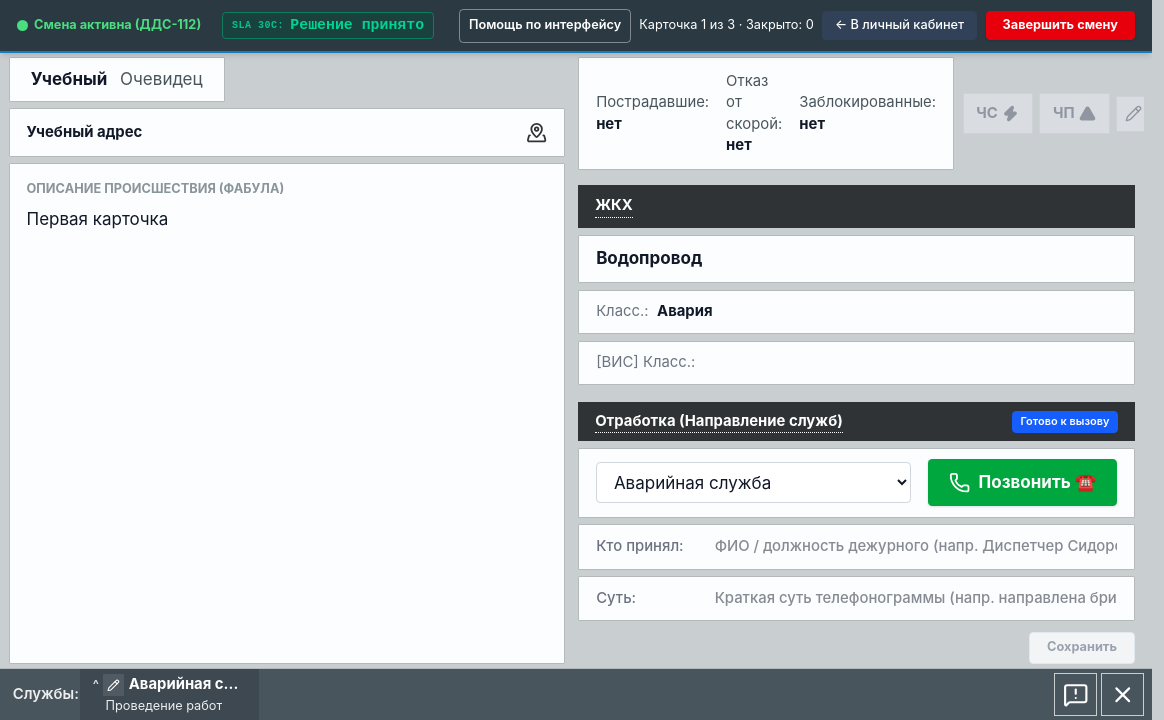
Test: retries an uncertain completion with the same card and request key
Click the button named "Отработана": click(1076, 695) [1054,673,1097,716]
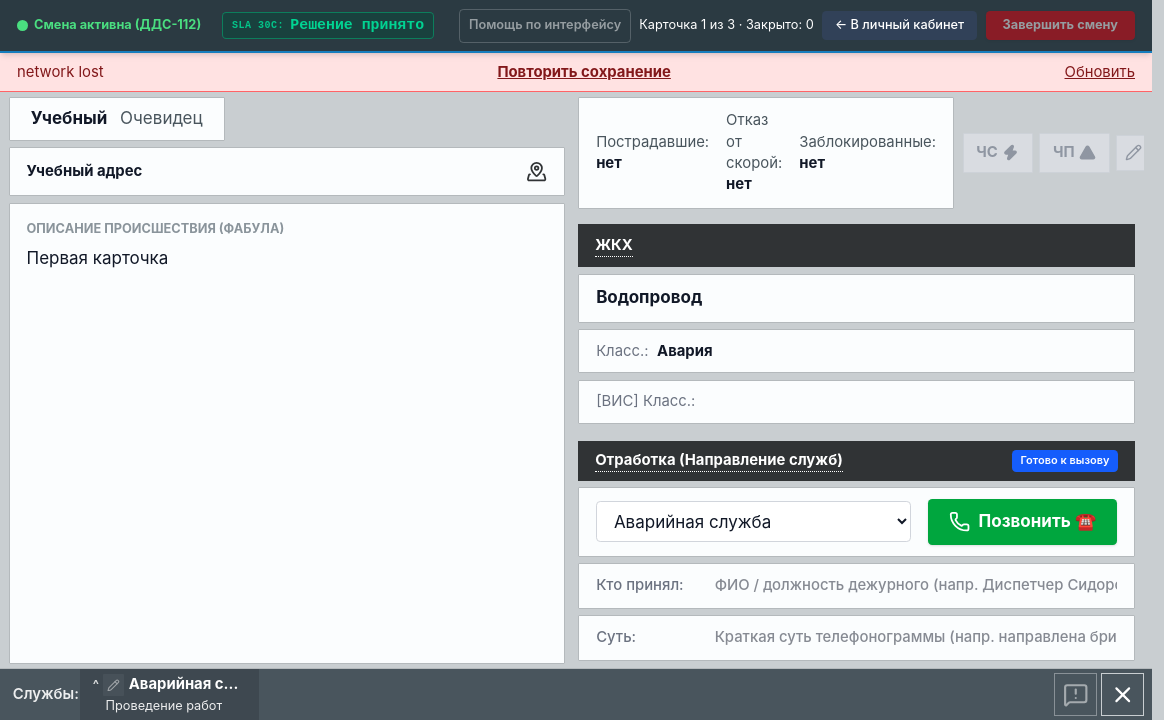
expect the button "Завершить смену" is disabled: met, box [986,11,1135,40]
Click the button "Повторить сохранение": click(584, 72) [497,62,671,83]
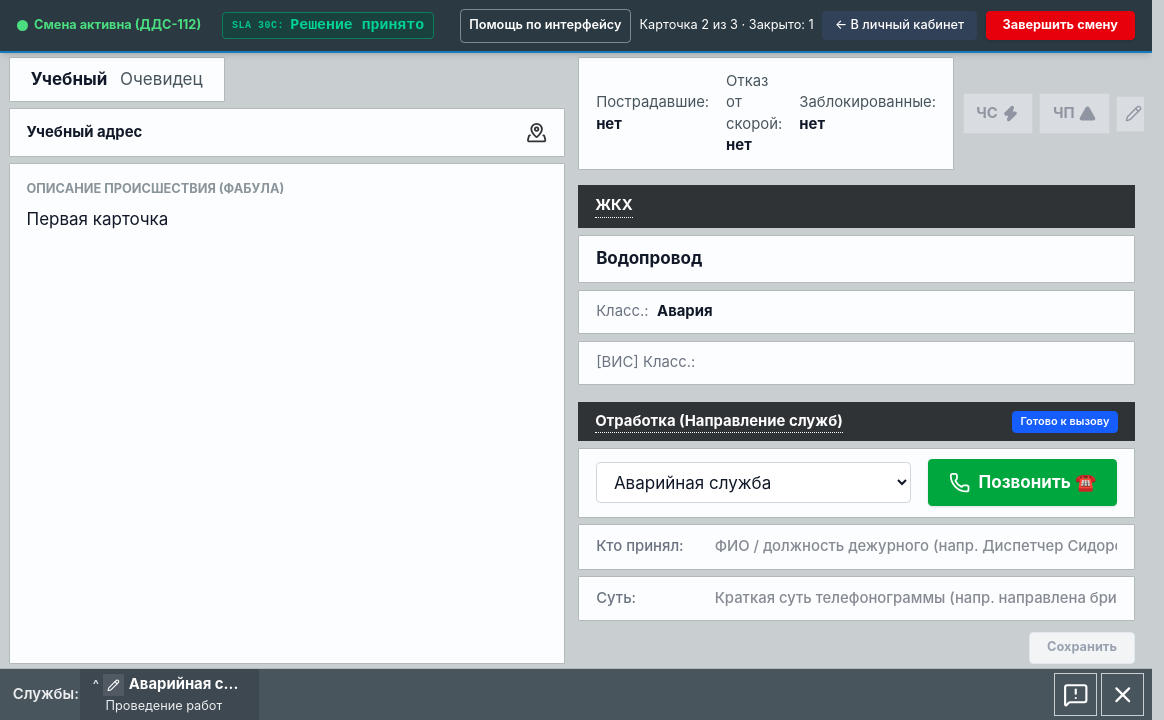
expect the text "Карточка 2 из 3" is shown: met, box [640,17,814,34]
